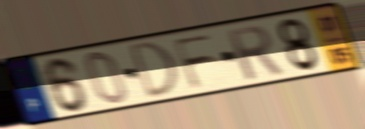0: (83, 49, 129, 107)
6: (42, 55, 91, 114)
8: (276, 16, 319, 73)
D: (128, 39, 183, 102)
F: (171, 31, 217, 92)
R: (223, 23, 286, 83)
